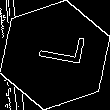L_W: (26, 35, 84, 75)
